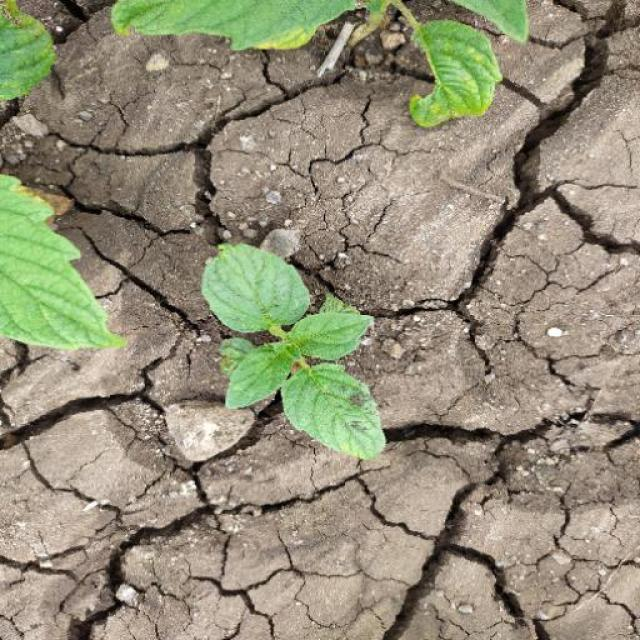crop: (180, 224, 414, 471)
